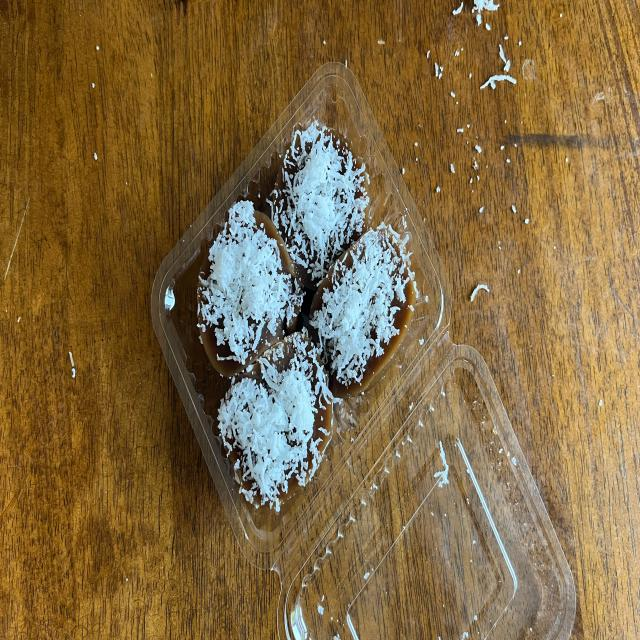Kuih lompang: (218, 329, 334, 513), (310, 222, 416, 398), (198, 200, 302, 376), (268, 120, 369, 289)
